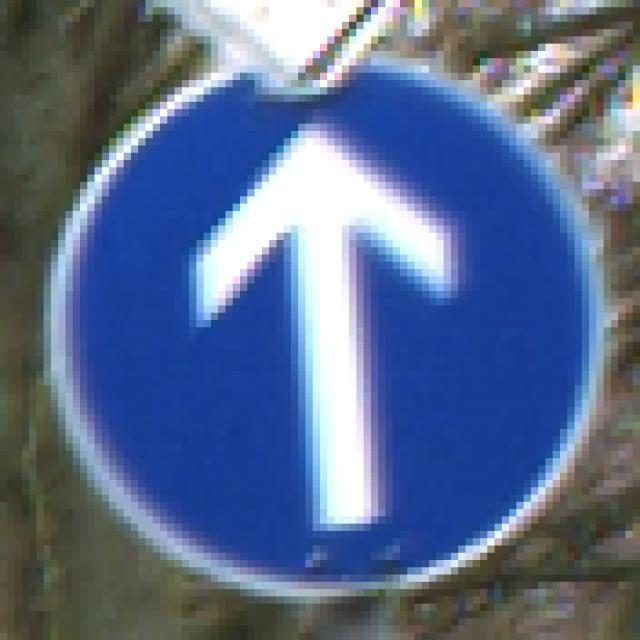compulsary ahead: (47, 57, 613, 592)
